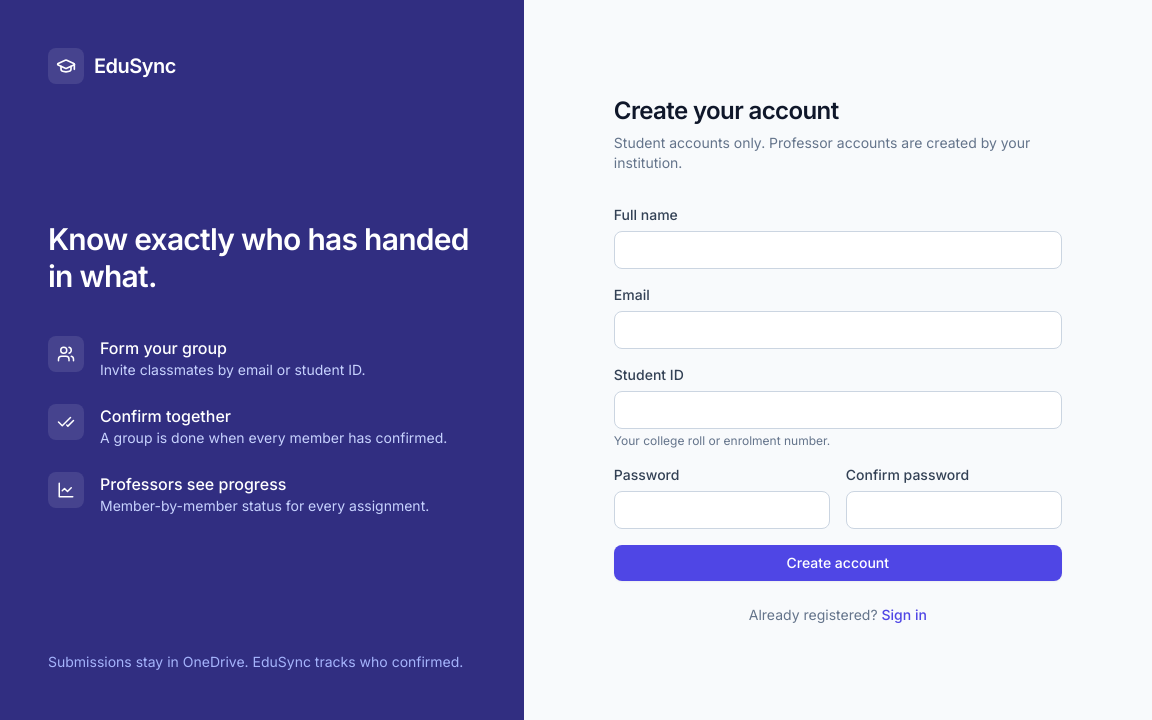
it: public pages › register form shows client-side validation
Step 1. Click the button "Create account" → click(838, 563), box [614,545,1062,581]
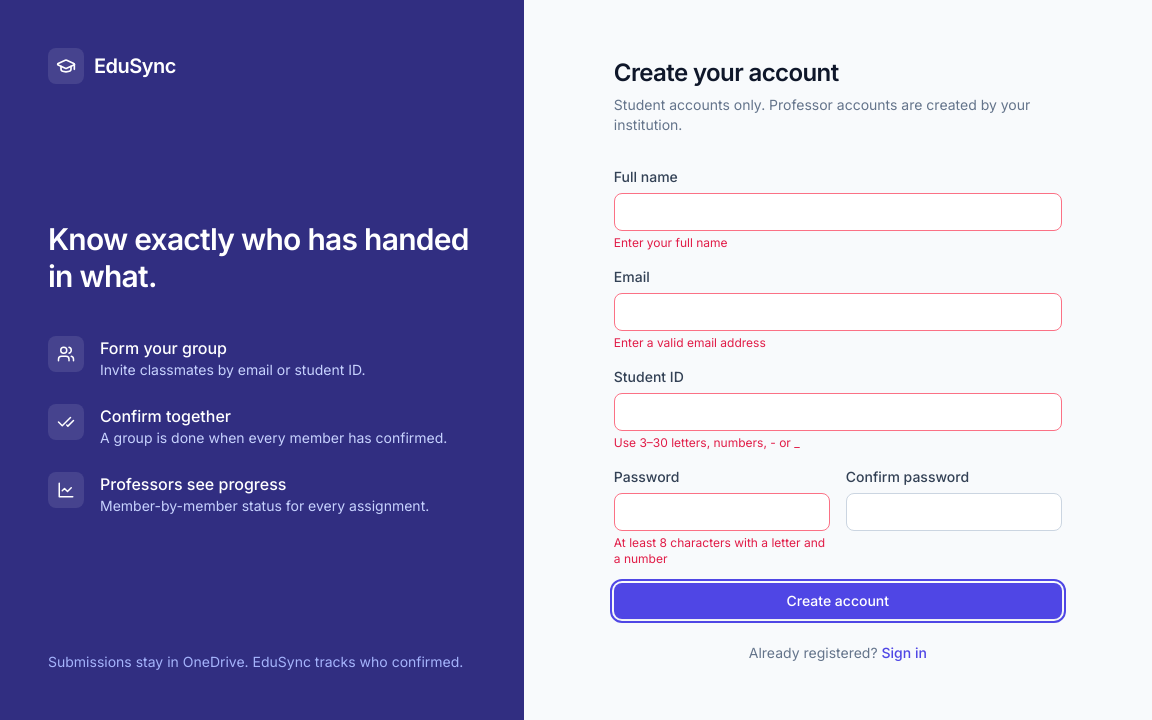
Expected: the text "Enter your full name" is shown, [614,235,728,250]
Expected: the text "Use 3–30 letters, numbers, - or _" is shown, [614,435,800,450]
